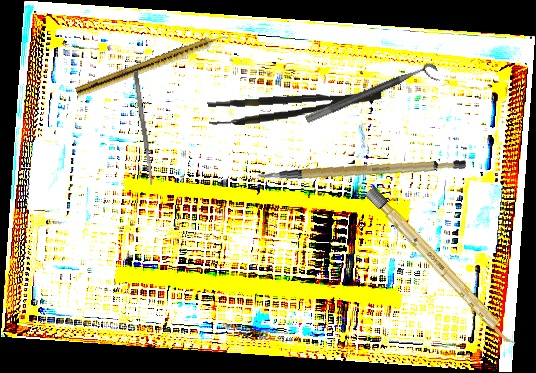Fixation Ring: (304, 60, 442, 135)
Handpiece: (74, 29, 231, 101)
Scalpel Handle: (364, 185, 519, 350), (256, 139, 467, 197)
Spatula Surgical: (132, 70, 155, 186)
Tissue Forceps: (207, 88, 383, 128)
